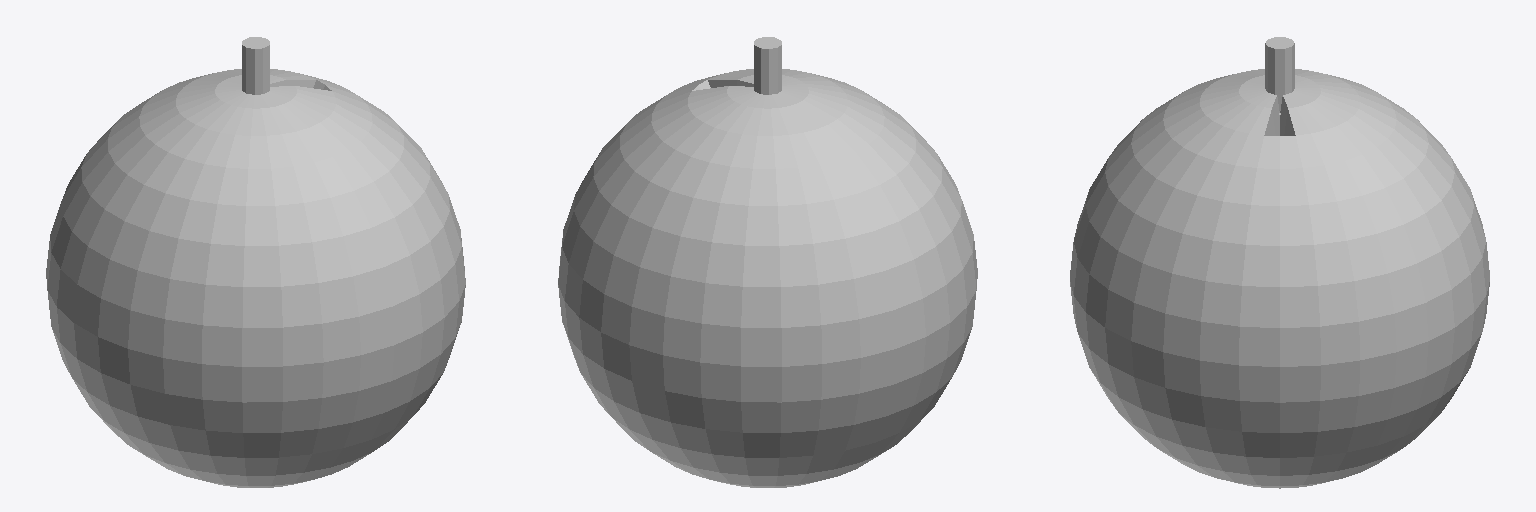
The model's file is orange2.obj.
The picture shows the model from 3 angles: view 1: azimuth 30°, elevation 25°; view 2: azimuth 150°, elevation 25°; view 3: azimuth 270°, elevation 25°; orthographic projection.
Visible parts, largest first — view 1: Sphere, Sphere.001; view 2: Sphere, Sphere.001; view 3: Sphere, Sphere.001.
Part boxes in pixels (left/top/right/bottom): Sphere: left=46, top=69, right=465, bottom=487; Sphere.001: left=242, top=37, right=269, bottom=94; Sphere: left=558, top=69, right=977, bottom=487; Sphere.001: left=754, top=37, right=781, bottom=94; Sphere: left=1070, top=69, right=1489, bottom=488; Sphere.001: left=1265, top=37, right=1294, bottom=110.
Bounding box in the file's own units: 2 × 2.23 × 2.